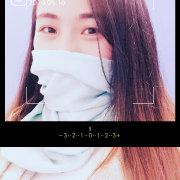WRONG: (35, 11, 121, 97)
